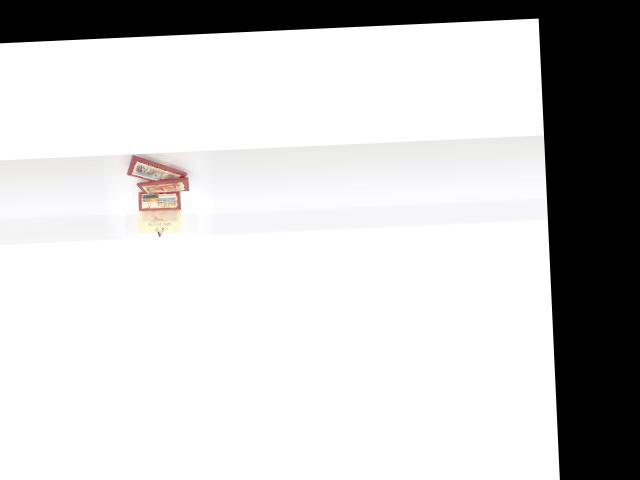chocolate: (113, 148, 190, 186)
